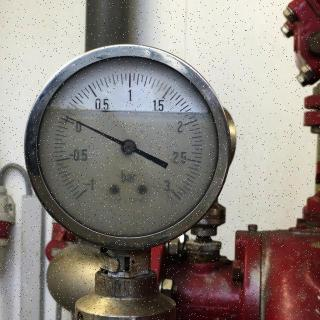gauge: (23, 41, 235, 248), (160, 178, 186, 206), (71, 177, 97, 203), (120, 139, 136, 155), (65, 111, 75, 123)
